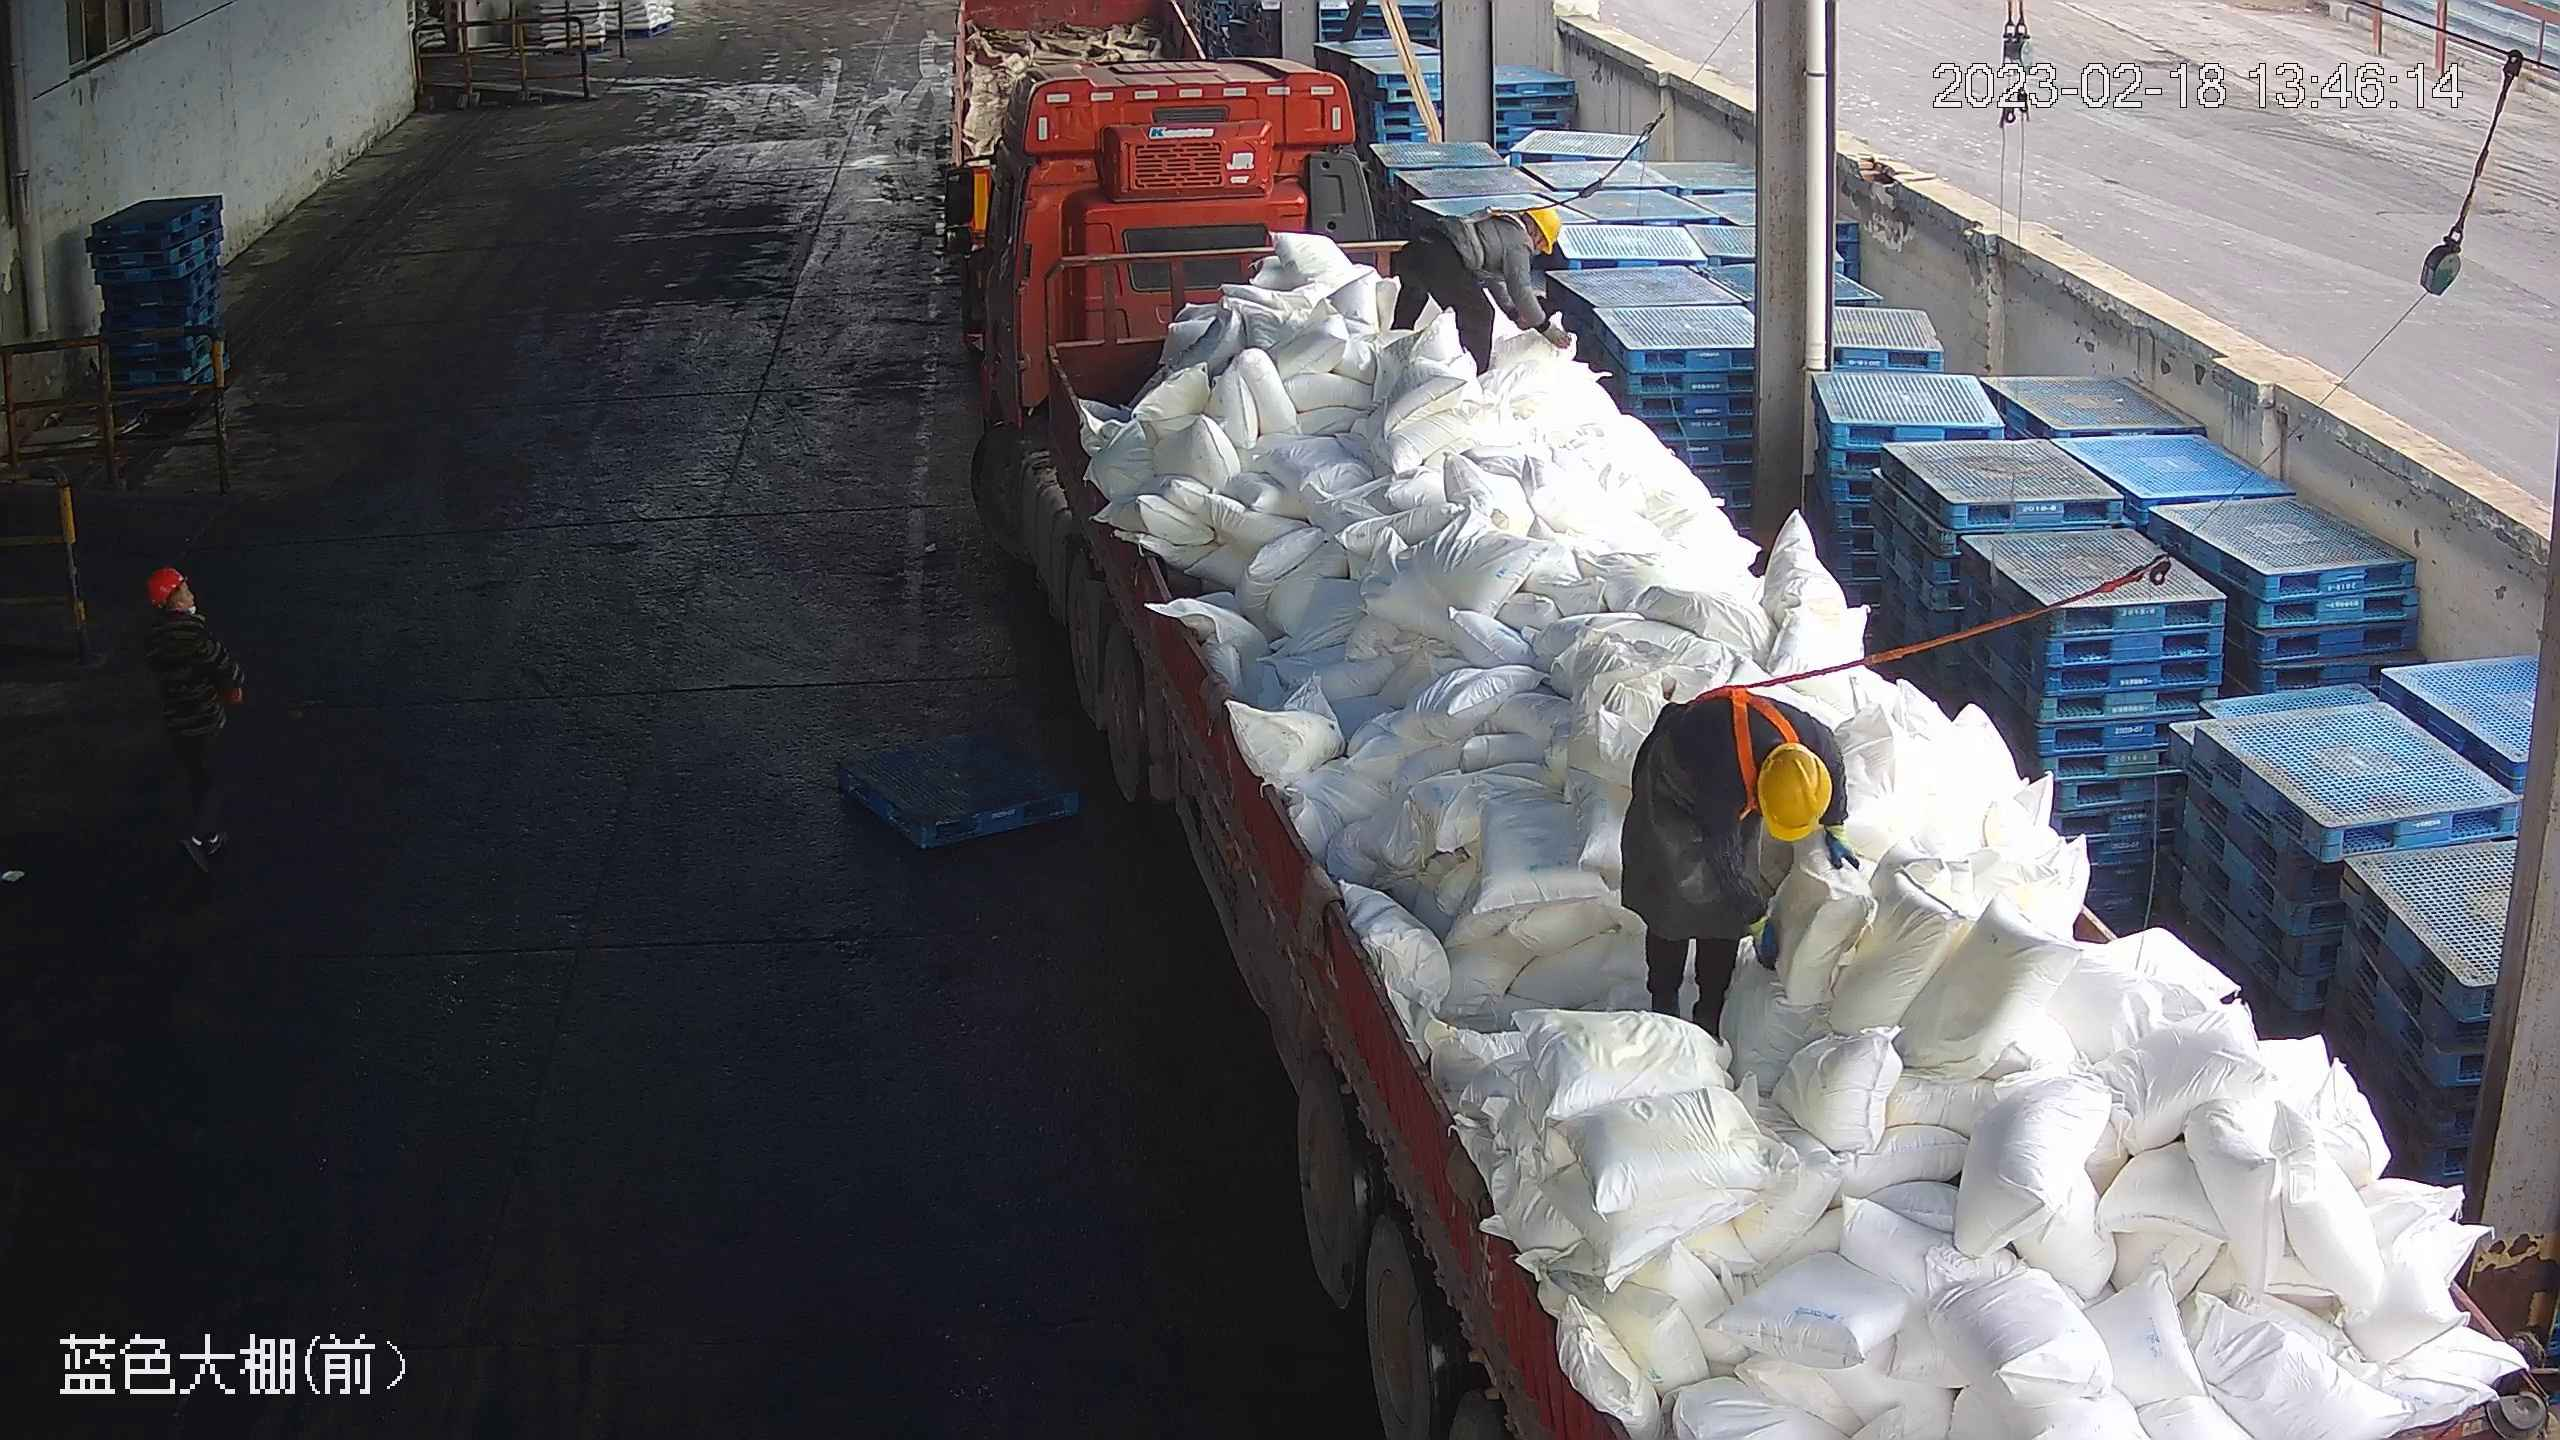belt: (1700, 659, 1796, 807), (1460, 202, 1514, 261)
head: (1675, 708, 1845, 844), (133, 567, 221, 659), (1472, 202, 1566, 273)
helmet: (1752, 738, 1839, 840), (1520, 202, 1566, 253), (139, 567, 182, 606)
people: (1616, 688, 1857, 1044), (132, 561, 244, 874), (1385, 200, 1570, 379)
truck: (933, 51, 2552, 1433)
